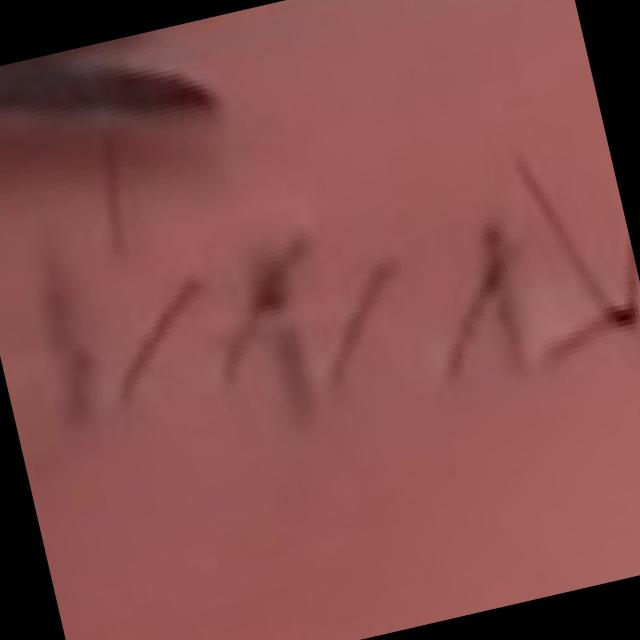suture: (519, 160, 640, 364), (223, 237, 316, 426), (446, 225, 527, 382), (119, 280, 202, 403), (329, 260, 401, 391), (44, 258, 96, 425)
